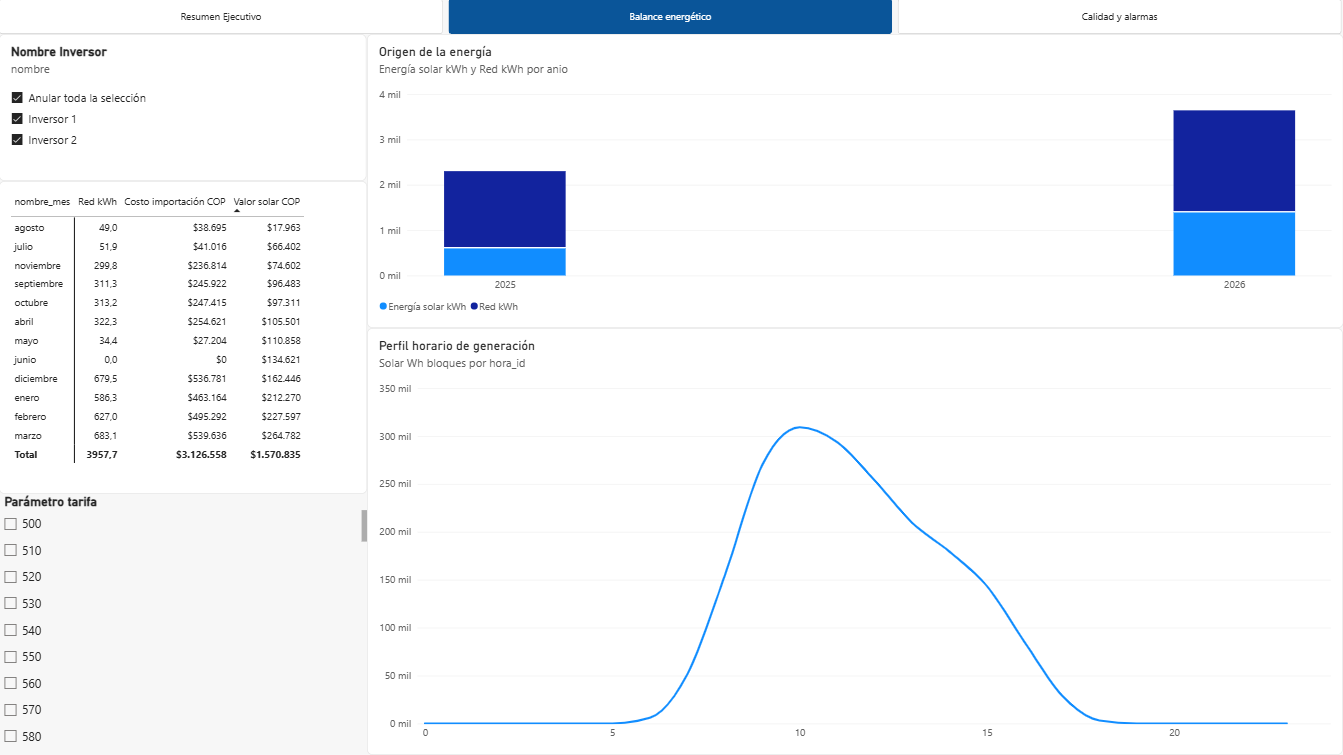

The page's visual inventory and layout, read from the dashboard file:
{"tool":"powerbi","page":{"name":"Balance energético","canvas":[1920,1080],"ordinal":1},"visuals":[{"type":"listSlicer","title":"Nombre Inversor","fields":{"Values":["gold dim_inversor.nombre"]},"box":[0,50,525,210],"z":0},{"type":"slicer","title":"Fecha","fields":{"Values":["gold dim_fecha.fecha"]},"box":[1195,731.7,298.3,153.3],"z":1000},{"type":"columnChart","title":"Origen de la energía","fields":{"Category":["gold dim_fecha.Calendario.anio","gold dim_fecha.Calendario.trimestre","gold dim_fecha.Calendario.nombre_mes","gold dim_fecha.Calendario.fecha"],"Y":["Medidas.Energía solar kWh","Medidas.Red kWh"]},"box":[525,50,1395,420],"z":2000},{"type":"lineChart","title":"Perfil horario de generación","fields":{"Category":["gold dim_hora.hora_id"],"Y":["Medidas.Solar Wh bloques"]},"box":[525.7,470,1394.3,610],"z":3000},{"type":"pivotTable","fields":{"Rows":["gold dim_fecha.nombre_mes"],"Values":["Medidas.Red kWh","Medidas.Costo importación COP","Medidas.Valor solar COP"]},"box":[0,260,525.7,447.1],"z":3001},{"type":"pageNavigator","box":[0,0,1920,50],"z":3002},{"type":"slicer","fields":{"Values":["Parámetro tarifa.Parámetro tarifa"]},"box":[0,707.1,525.7,372.9],"z":3003}]}

Visuals, with their boxes in screenshot pixels (x1, y1, x2, y2), scaled from the page's 1920x1080 canvas onto the 1343x755 screenshot:
"Nombre Inversor" listSlicer: 0 35 367 182
"Fecha" slicer: 836 512 1045 619
"Origen de la energía" columnChart: 367 35 1342 329
"Perfil horario de generación" lineChart: 368 329 1342 754
pivotTable - gold dim_fecha.nombre_mes x Medidas.Red kWh: 0 182 368 494
pageNavigator: 0 0 1342 35
slicer - Parámetro tarifa.Parámetro tarifa: 0 494 368 754
